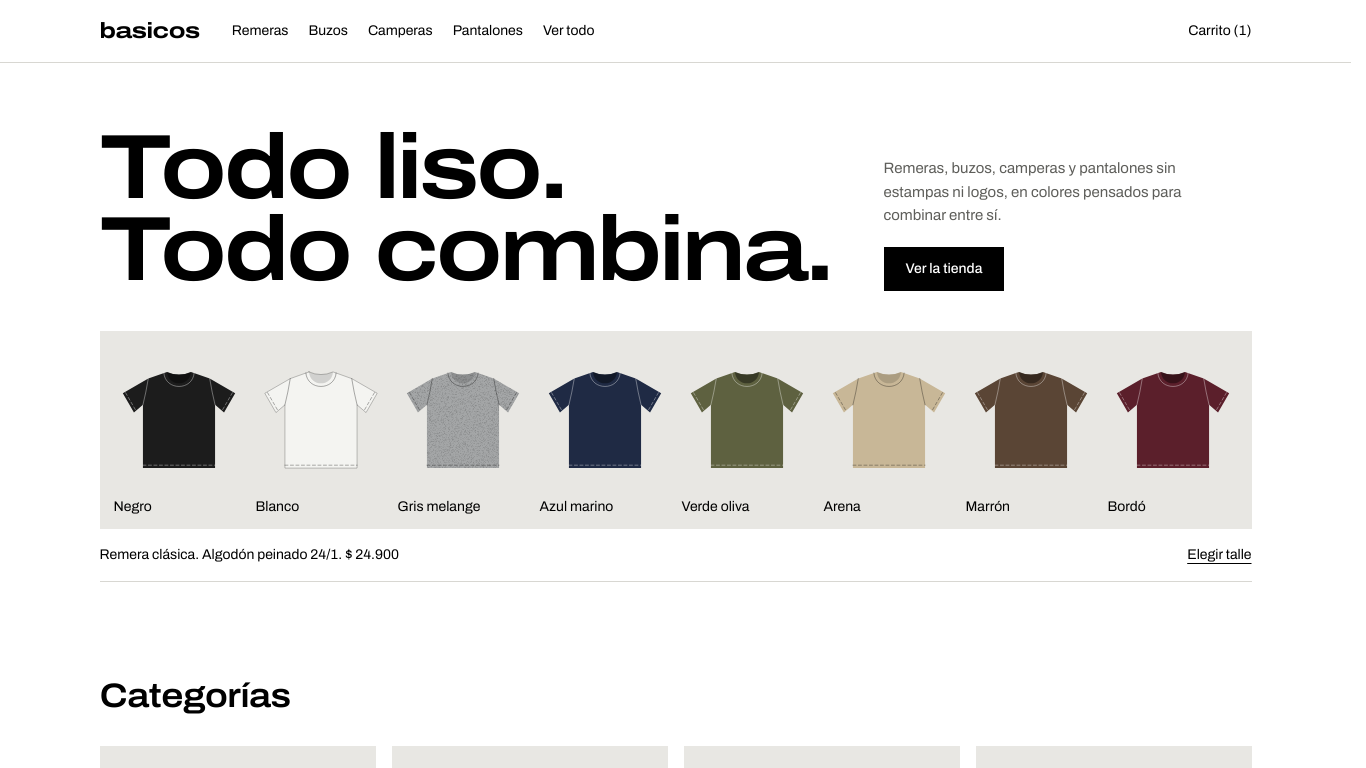
Scenario: carrito lateral › quitar la última prenda deja el carrito vacío y el foco en "Cerrar"
The width and height of the screenshot is (1366, 768).
Click the button "Carrito (1)": click(1220, 31) left=1184, top=9, right=1256, bottom=53
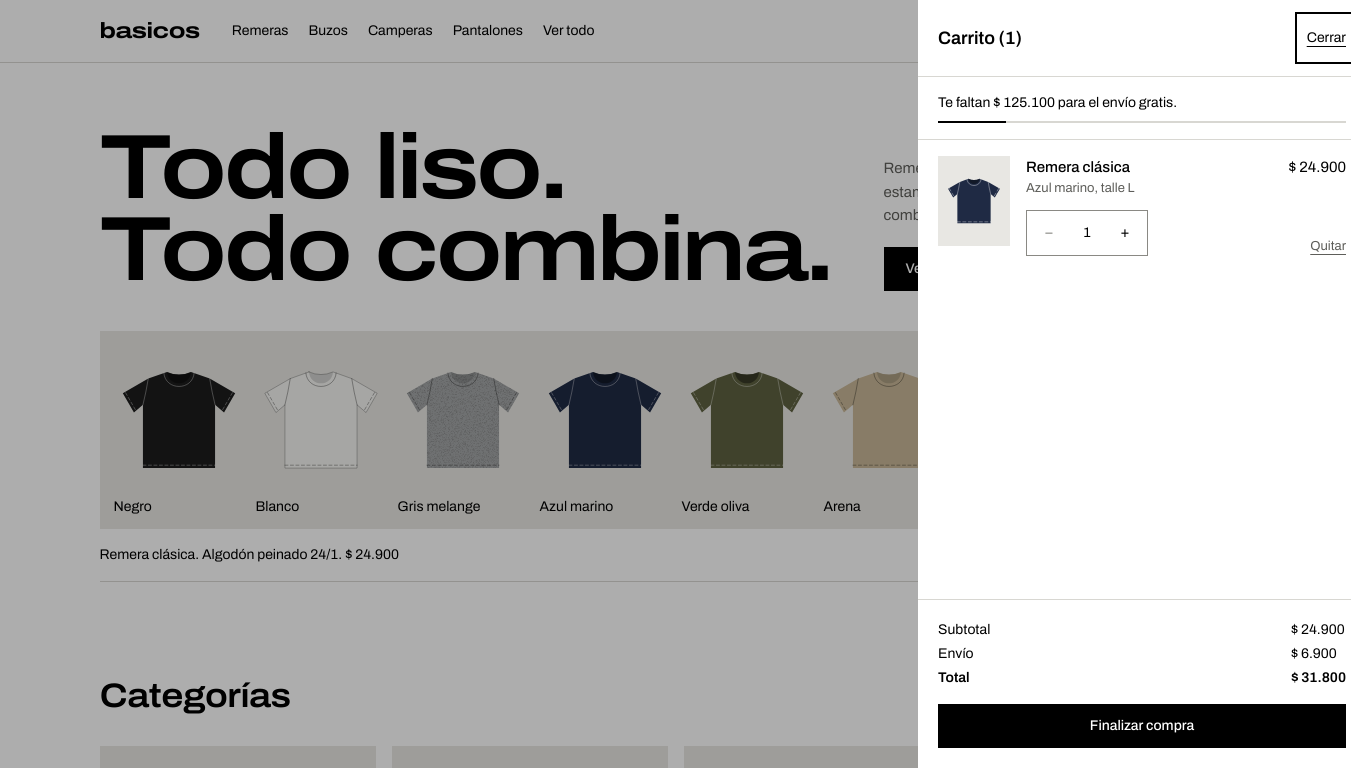
Click the button with aria-label "Quitar Remera clásica, Azul marino, talle L": click(1328, 246) left=1302, top=224, right=1354, bottom=268
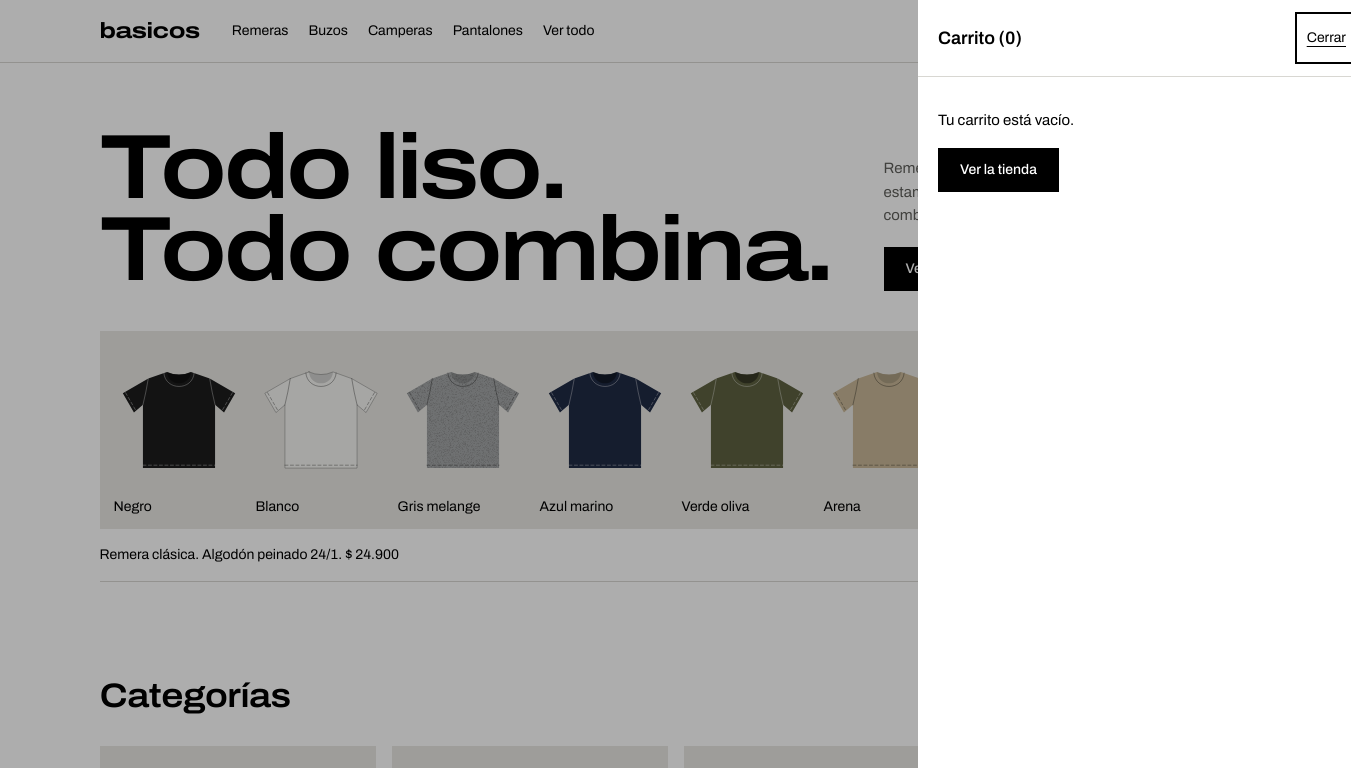
Expected: the text "Tu carrito está vacío." is shown, left=938, top=109, right=1074, bottom=132
